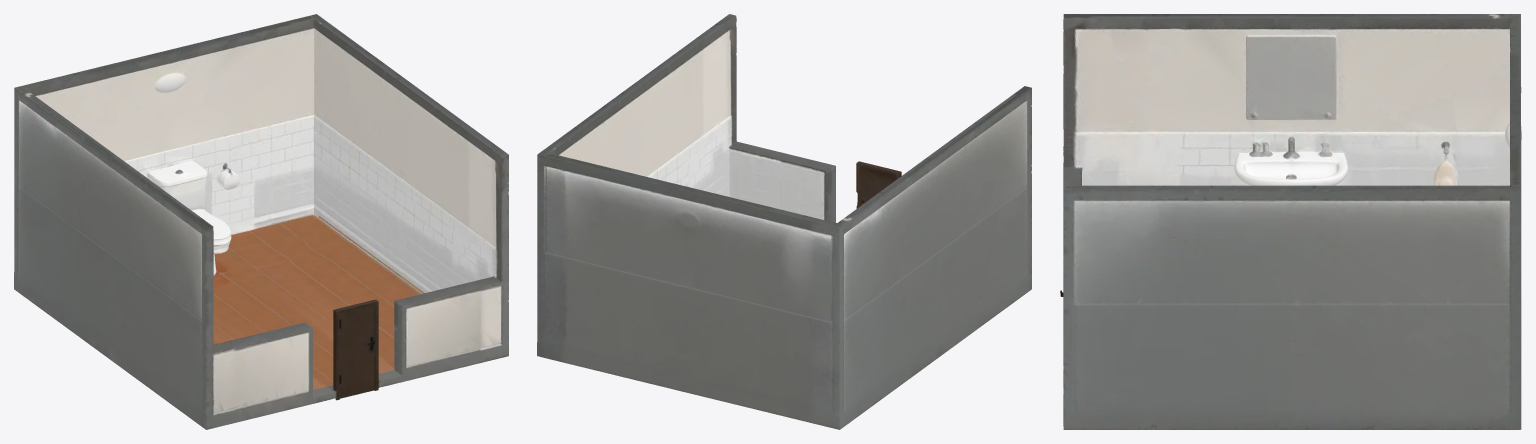
File: bano.glb
3 renders of one model, left to right at view 1: azimuth 30°, elevation 25°; view 2: azimuth 150°, elevation 25°; view 3: azimuth 270°, elevation 25°, orthographic. The views are drawn at different scales.
Size of the model in its own units: 1.72 by 1.1 by 1.9.
Materials: 1 (1 with a texture image).
